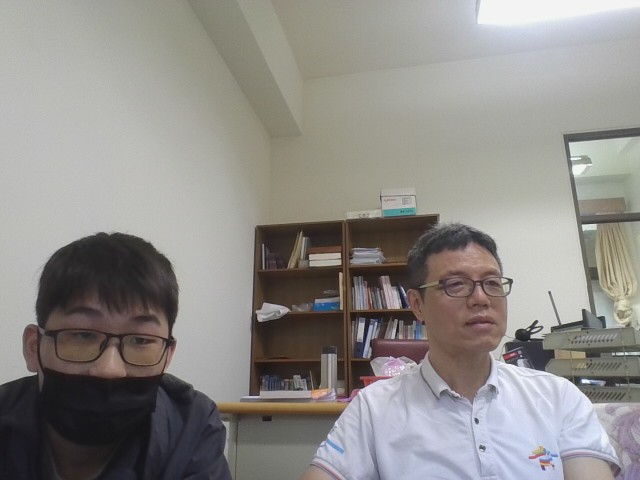No_Helmet: (27, 229, 181, 383), (401, 220, 516, 379)
person: (264, 205, 638, 480), (0, 217, 265, 480)
